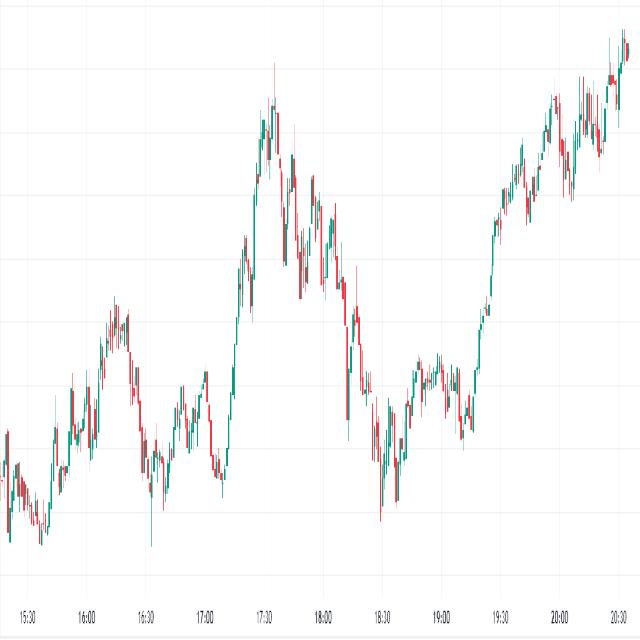Double-Bottom: (368, 392, 414, 526), (138, 419, 176, 509)
Double-Top: (170, 362, 215, 469), (252, 87, 284, 181)
Head-Shoulders: (230, 72, 309, 374)
